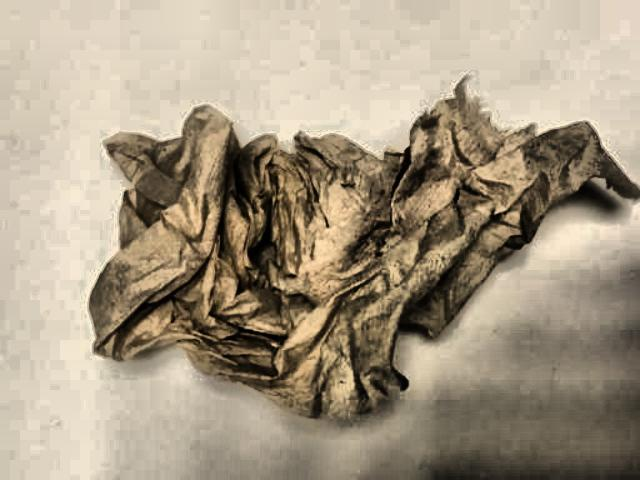Bottles: (16, 68, 640, 438)
